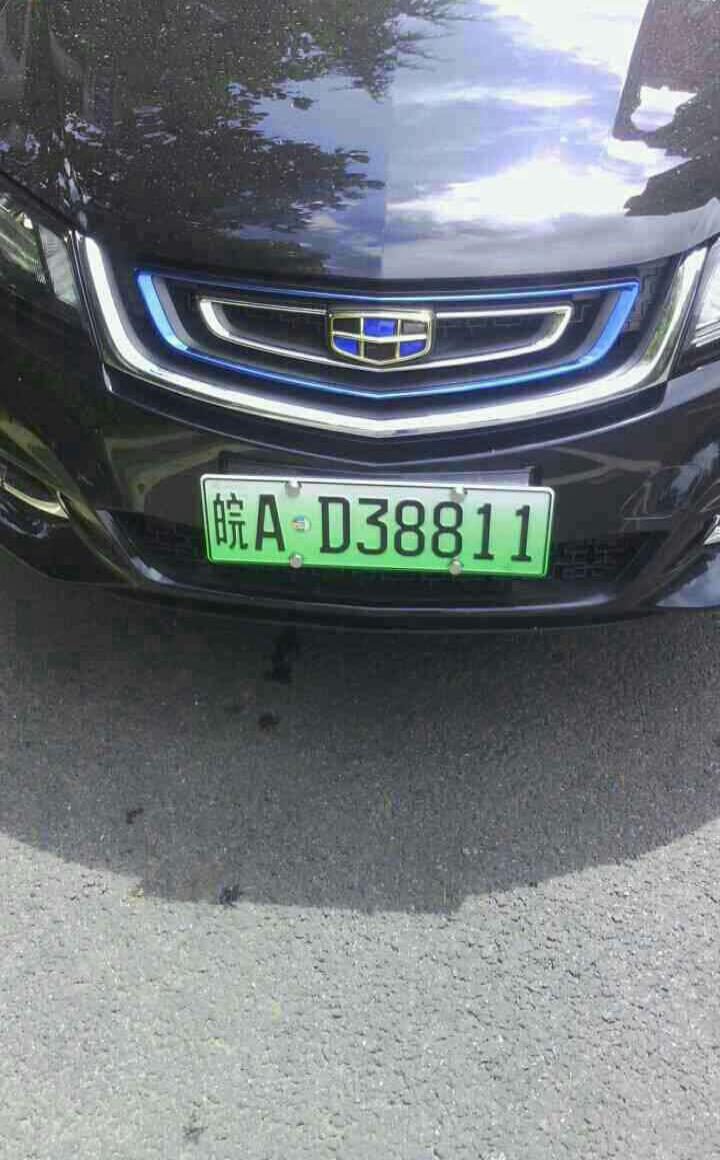car_id: (197, 479, 554, 575)
